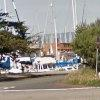Boat: (4, 42, 86, 81)
